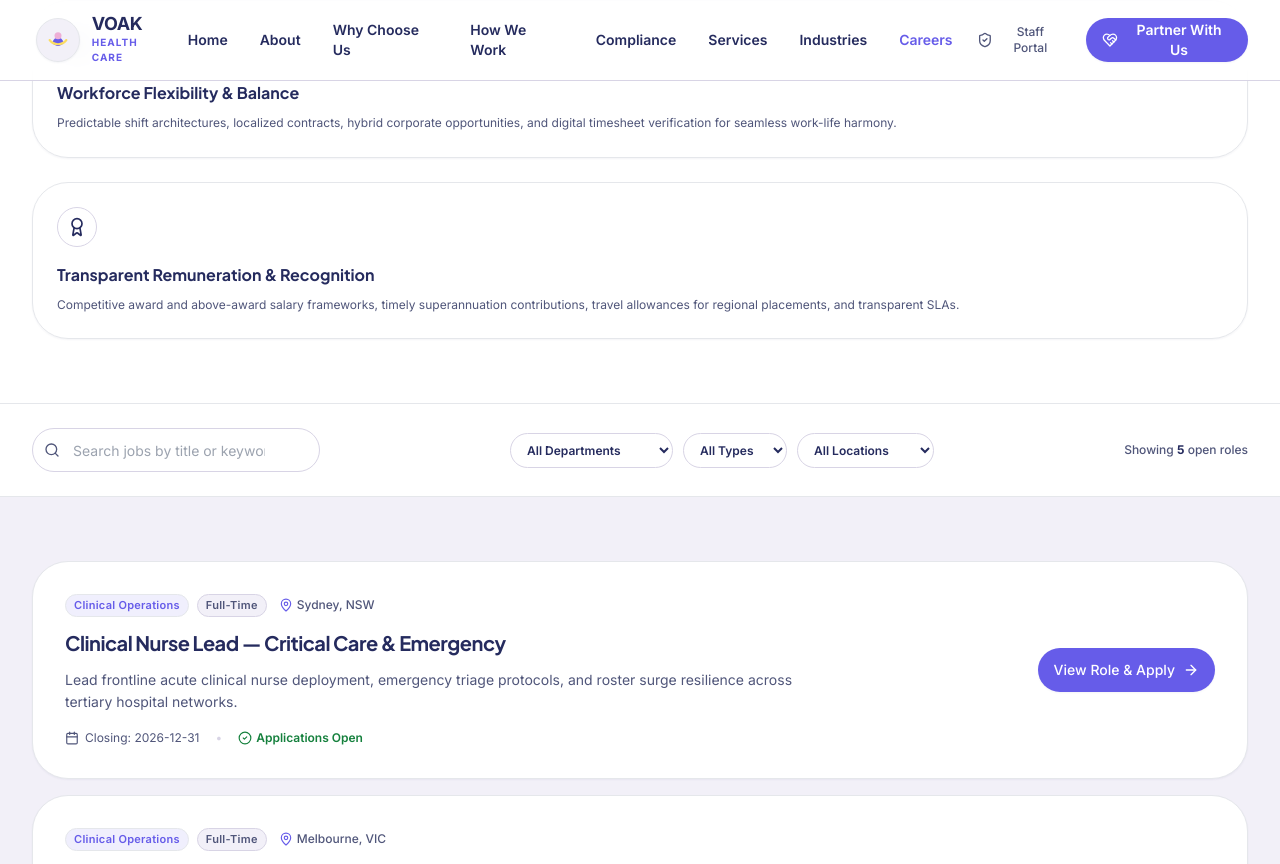
Test: Phase 23 — Careers Portal Suite › PAGE-PUB-12: Careers Overview Directory (/careers) › filters jobs by employment type dropdown
(page scrolled)
Select "Contract" in the dropdown named "Filter by employment type" at point(735, 450), box [683,432,787,468]
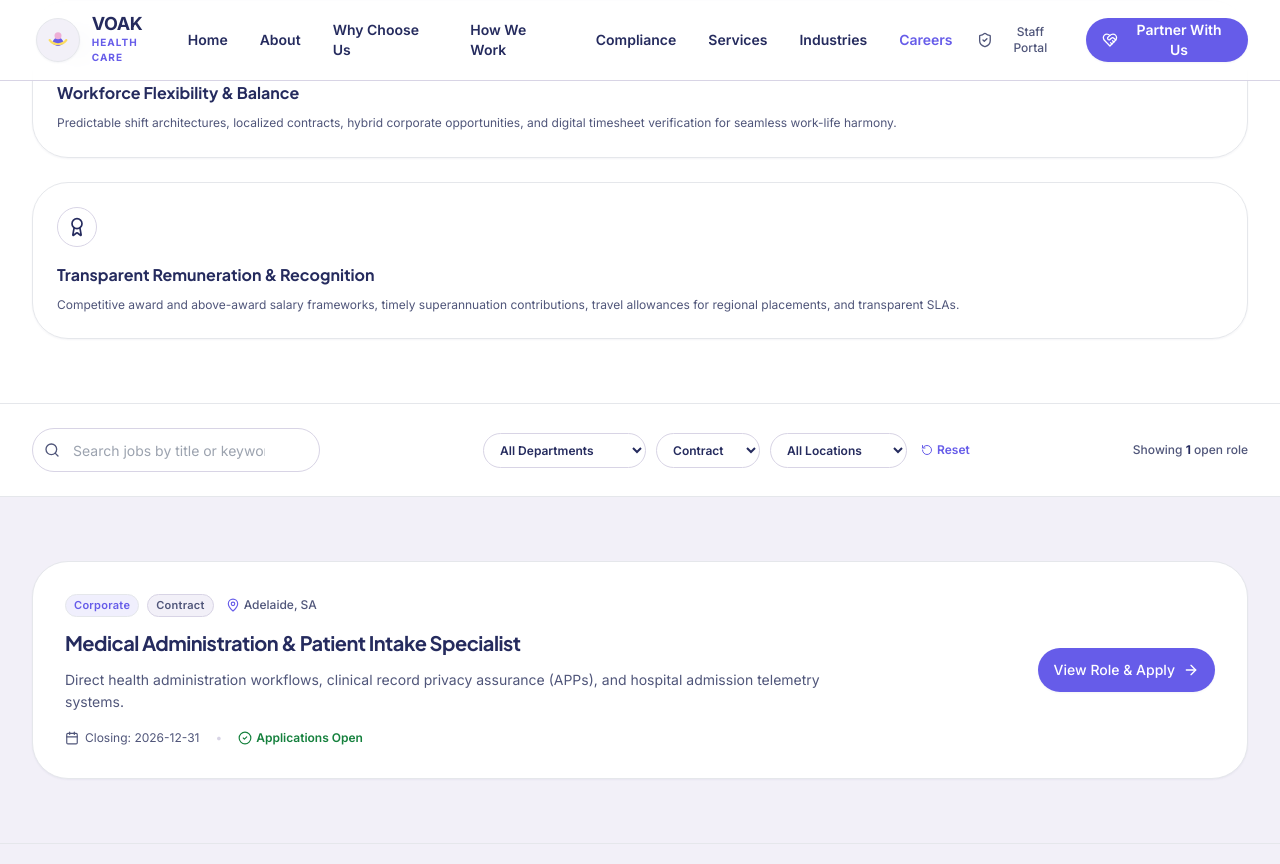
Check: the link "Medical Administration & Patient Intake Specialist" is shown, box [65,630,521,654]
Check: the element named "Job openings count" reads "Showing 1 open role", box [1133,442,1248,458]
